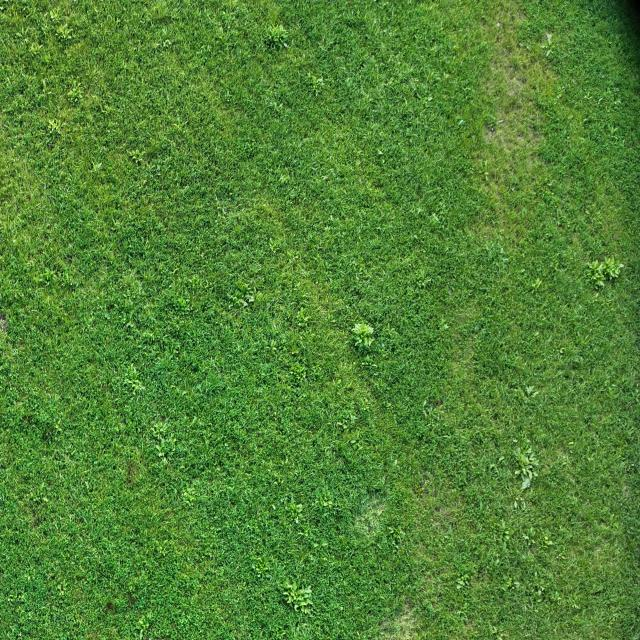rumex: (527, 506, 635, 624), (42, 91, 94, 145), (335, 406, 374, 468), (403, 74, 448, 126), (283, 490, 325, 545), (211, 3, 250, 46), (479, 236, 515, 282), (151, 426, 179, 465), (532, 526, 556, 562), (497, 517, 517, 555), (121, 364, 146, 394), (313, 485, 335, 519), (284, 498, 304, 524), (287, 361, 308, 384), (250, 554, 271, 577), (64, 83, 84, 107), (36, 267, 59, 287), (337, 416, 360, 435), (134, 613, 152, 637), (204, 375, 228, 393), (173, 290, 192, 312), (88, 93, 108, 113), (149, 422, 169, 442), (454, 572, 472, 593), (540, 31, 554, 58), (386, 524, 405, 543), (180, 487, 198, 507), (358, 353, 378, 371), (310, 74, 325, 95), (128, 150, 146, 166), (297, 307, 311, 327), (513, 494, 527, 512), (487, 114, 502, 130), (608, 124, 624, 139), (47, 117, 61, 134), (358, 333, 373, 348), (266, 342, 280, 358), (29, 40, 43, 56), (437, 318, 451, 333), (502, 576, 516, 591), (529, 277, 543, 292), (550, 590, 564, 605), (279, 170, 291, 185), (56, 581, 68, 596), (286, 588, 298, 603), (412, 484, 424, 498), (591, 273, 605, 285), (90, 160, 102, 173), (520, 442, 532, 455), (238, 281, 249, 295), (57, 25, 68, 39), (521, 476, 531, 490), (430, 212, 441, 224), (525, 384, 536, 396), (542, 534, 552, 546), (284, 493, 294, 505), (262, 30, 272, 42), (615, 263, 624, 276), (527, 526, 535, 540), (268, 99, 278, 110), (300, 596, 311, 606), (610, 269, 621, 279), (156, 443, 165, 455), (530, 389, 542, 398), (239, 300, 249, 310), (284, 580, 294, 590), (301, 605, 311, 615), (545, 32, 553, 44), (275, 101, 283, 113), (158, 454, 167, 464), (245, 294, 254, 304), (316, 76, 324, 87), (138, 627, 145, 639), (336, 420, 345, 429), (54, 422, 62, 432), (537, 585, 545, 595), (490, 462, 498, 472), (491, 625, 499, 635), (164, 39, 172, 48), (597, 280, 605, 289), (350, 413, 358, 422), (456, 580, 464, 589), (304, 586, 312, 595), (431, 45, 438, 55), (421, 399, 428, 409), (49, 10, 56, 20), (502, 536, 509, 546), (284, 591, 291, 601), (393, 457, 399, 468), (422, 409, 430, 417), (442, 71, 449, 80), (377, 148, 384, 156), (503, 529, 511, 536), (380, 342, 386, 351), (294, 603, 300, 612), (42, 496, 49, 503), (426, 95, 433, 102), (497, 118, 504, 124), (597, 97, 603, 104), (498, 456, 505, 462), (484, 160, 488, 170), (221, 208, 226, 216), (526, 45, 532, 51), (558, 348, 564, 354), (489, 126, 495, 132), (512, 438, 518, 444), (283, 42, 289, 48), (484, 171, 489, 178), (512, 76, 517, 83), (514, 468, 519, 475), (519, 43, 524, 48), (252, 564, 256, 570)
